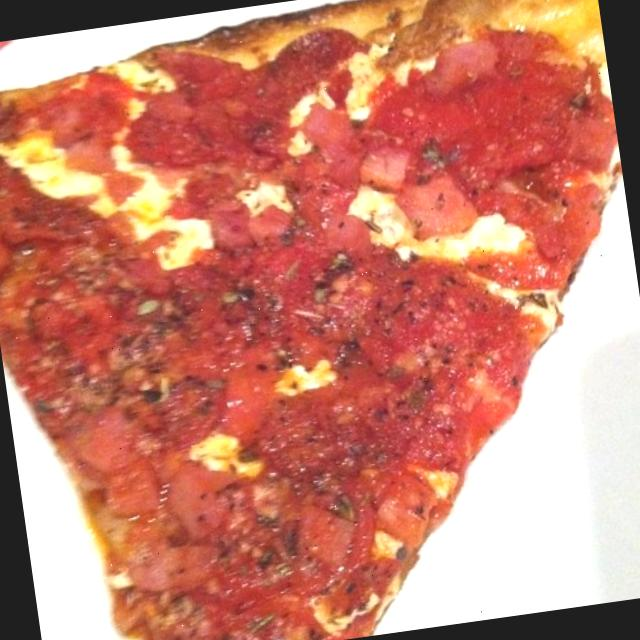pizza: (0, 0, 622, 640)
tomato: (158, 345, 292, 450), (273, 482, 381, 594), (191, 567, 317, 640), (46, 293, 131, 375)
